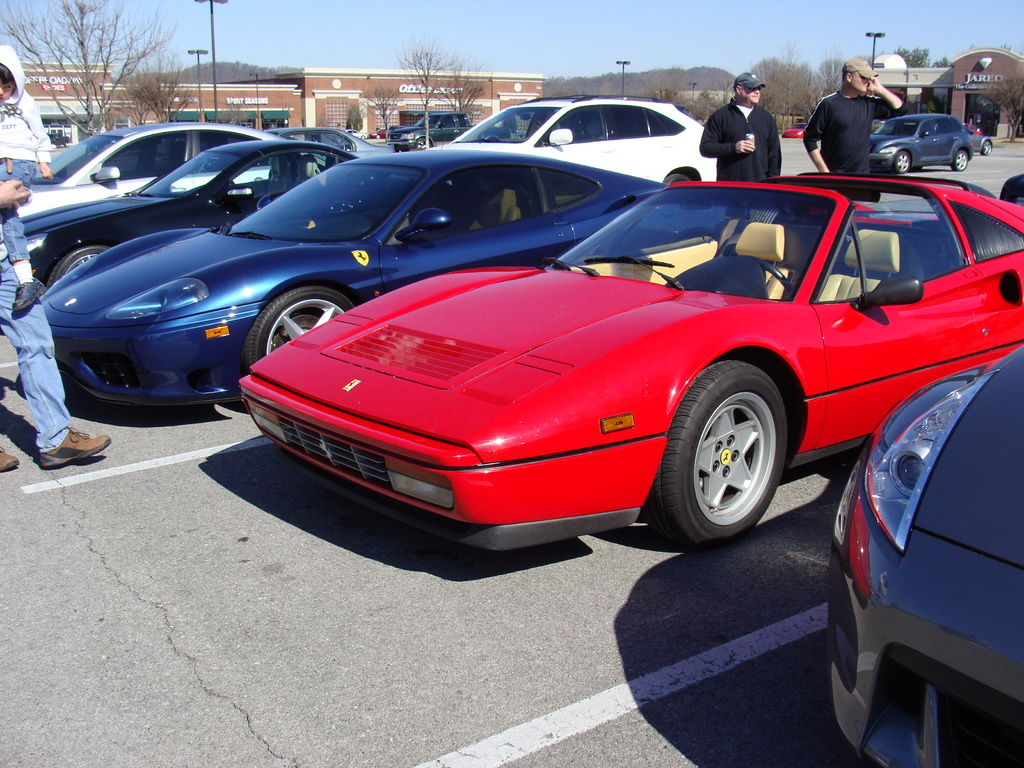person: (0, 174, 113, 471)
